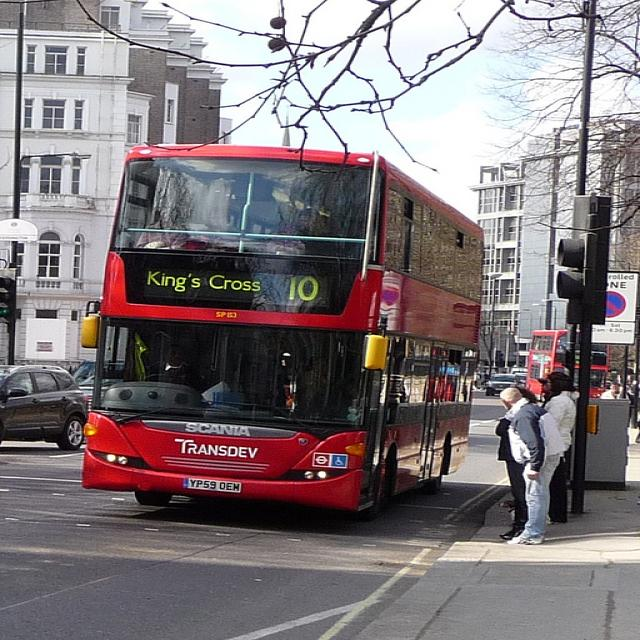Vehicle: (79, 143, 484, 514), (0, 364, 90, 451), (74, 361, 99, 401), (485, 374, 517, 396), (516, 375, 526, 387)
